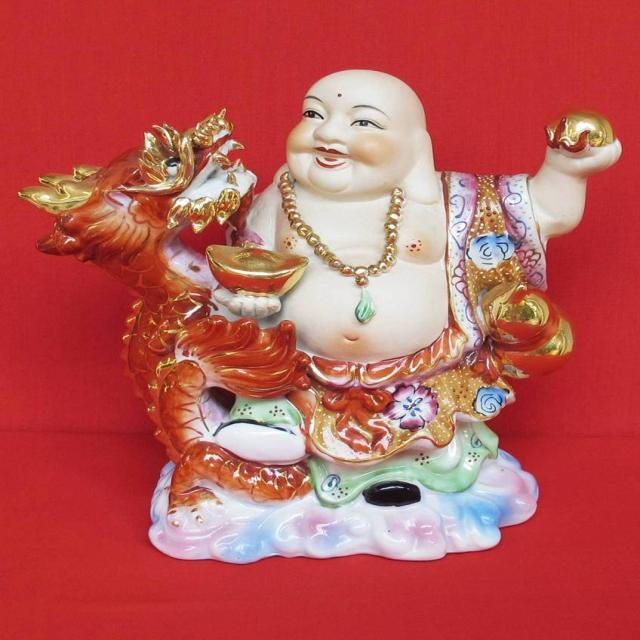Smiling Buddha: (221, 60, 490, 417)
